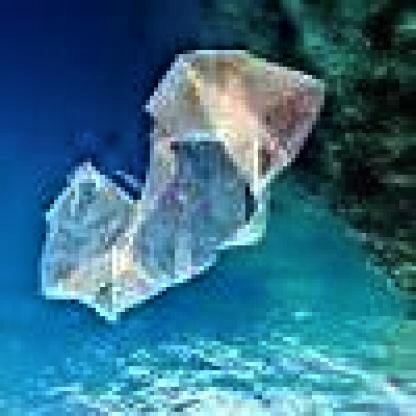pbag: (38, 46, 328, 324)
